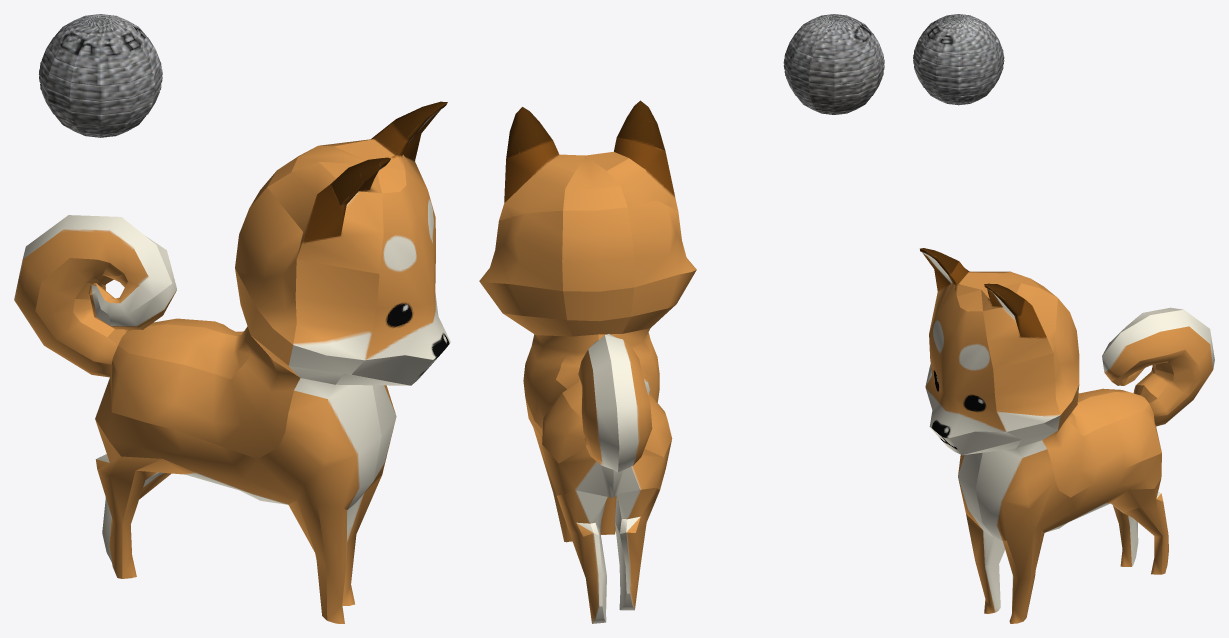
The model's file is ball_frame3.obj.
The picture shows the model from 3 angles, left to right: view 1: azimuth 30°, elevation 25°; view 2: azimuth 150°, elevation 25°; view 3: azimuth 270°, elevation 25°; orthographic projection. The views are drawn at different scales.
Parts seen in each view (by area): view 1: walk1:newRigging:BodzL1, pSphere1; view 2: walk1:newRigging:BodzL1, pSphere1; view 3: walk1:newRigging:BodzL1, pSphere1.
Boxes of the visible parts, box(x1,y1,x2,y2) form: walk1:newRigging:BodzL1: box(14, 101, 450, 623); pSphere1: box(39, 14, 162, 137); walk1:newRigging:BodzL1: box(479, 100, 696, 623); pSphere1: box(783, 14, 884, 114); walk1:newRigging:BodzL1: box(920, 248, 1214, 623); pSphere1: box(913, 14, 1004, 105).
Size of the model in its own units: 7.14 by 10.94 by 5.96.
2 materials, 2 textured.
